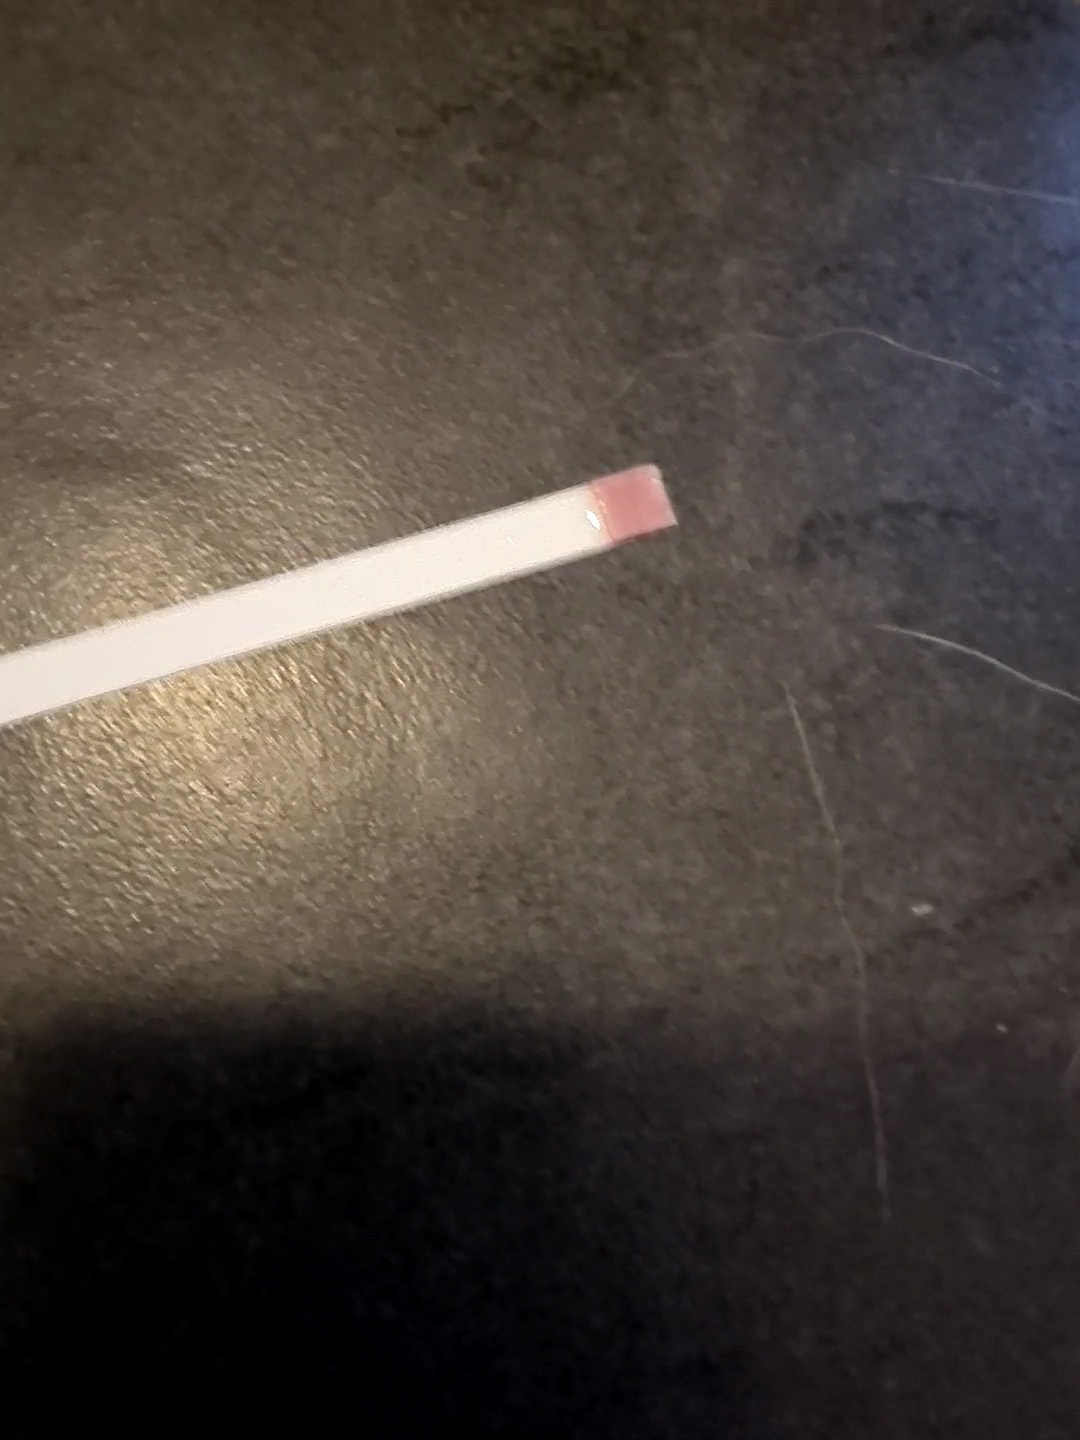keto-tip: (587, 460, 682, 550)
